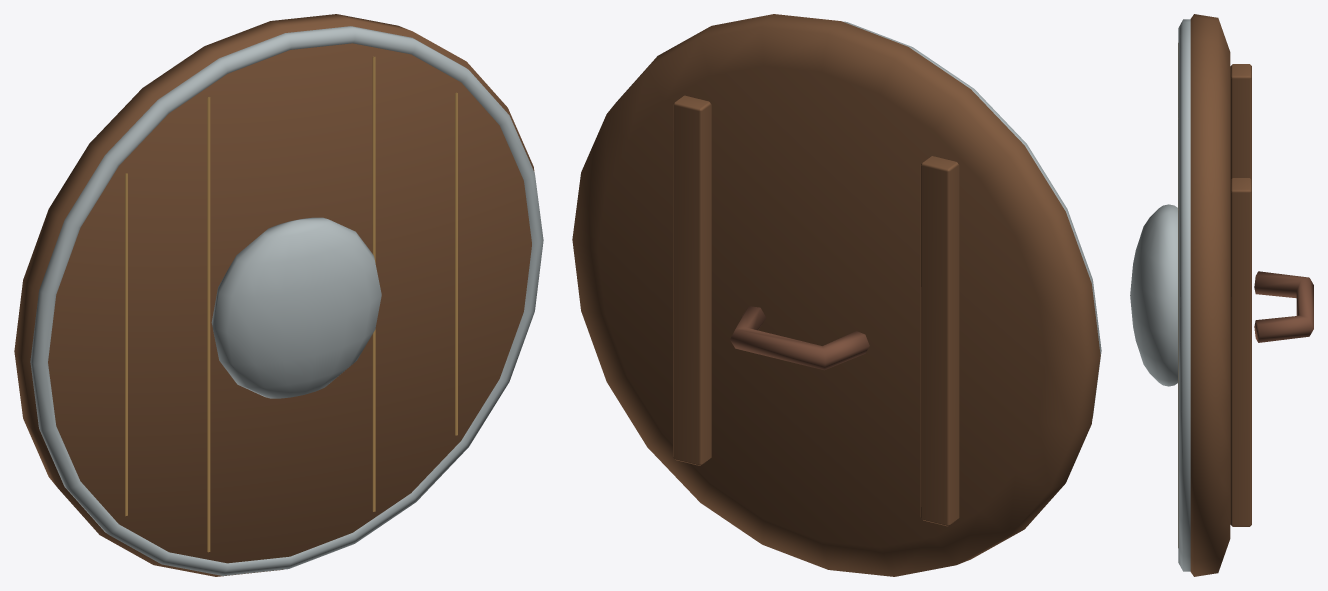
The model's file is P025_round_shield_rebuilt.glb.
3 renders of one model, left to right at view 1: azimuth 30°, elevation 25°; view 2: azimuth 150°, elevation 25°; view 3: azimuth 270°, elevation 25°, orthographic. The views are drawn at different scales.
Parts seen in each view (by area): view 1: wood, steel, edge; view 2: wood, leather, steel; view 3: wood, steel, leather, edge.
Part boxes in pixels (x1,y1,x2,y2): wood: [14, 14, 534, 576]; steel: [30, 26, 543, 575]; edge: [125, 56, 457, 552]; wood: [572, 14, 1100, 576]; leather: [730, 306, 869, 370]; steel: [842, 21, 1101, 417]; wood: [1190, 14, 1251, 576]; steel: [1130, 19, 1190, 571]; leather: [1254, 271, 1313, 342]; edge: [1178, 43, 1178, 547].
Bounding box in the file's own units: 0.448 × 0.448 × 0.1457.
